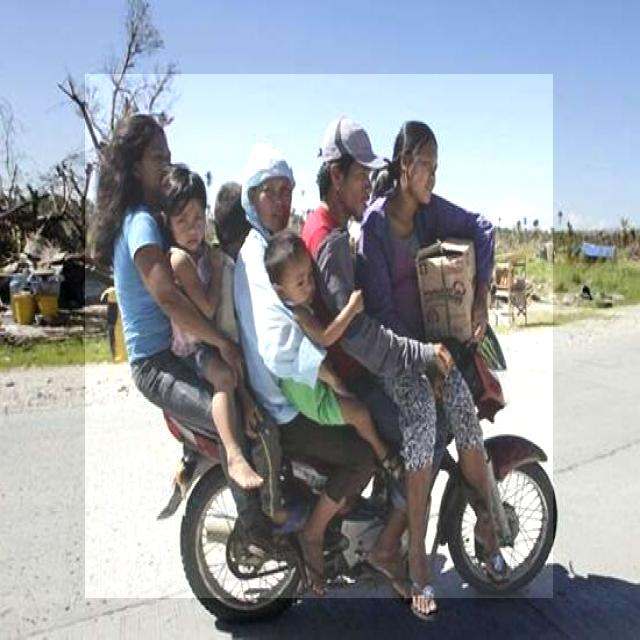Overloading: (85, 74, 553, 598)
